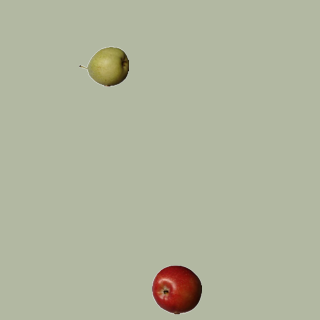Apple Braeburn: (151, 264, 201, 314)
Pear: (78, 41, 128, 91)
